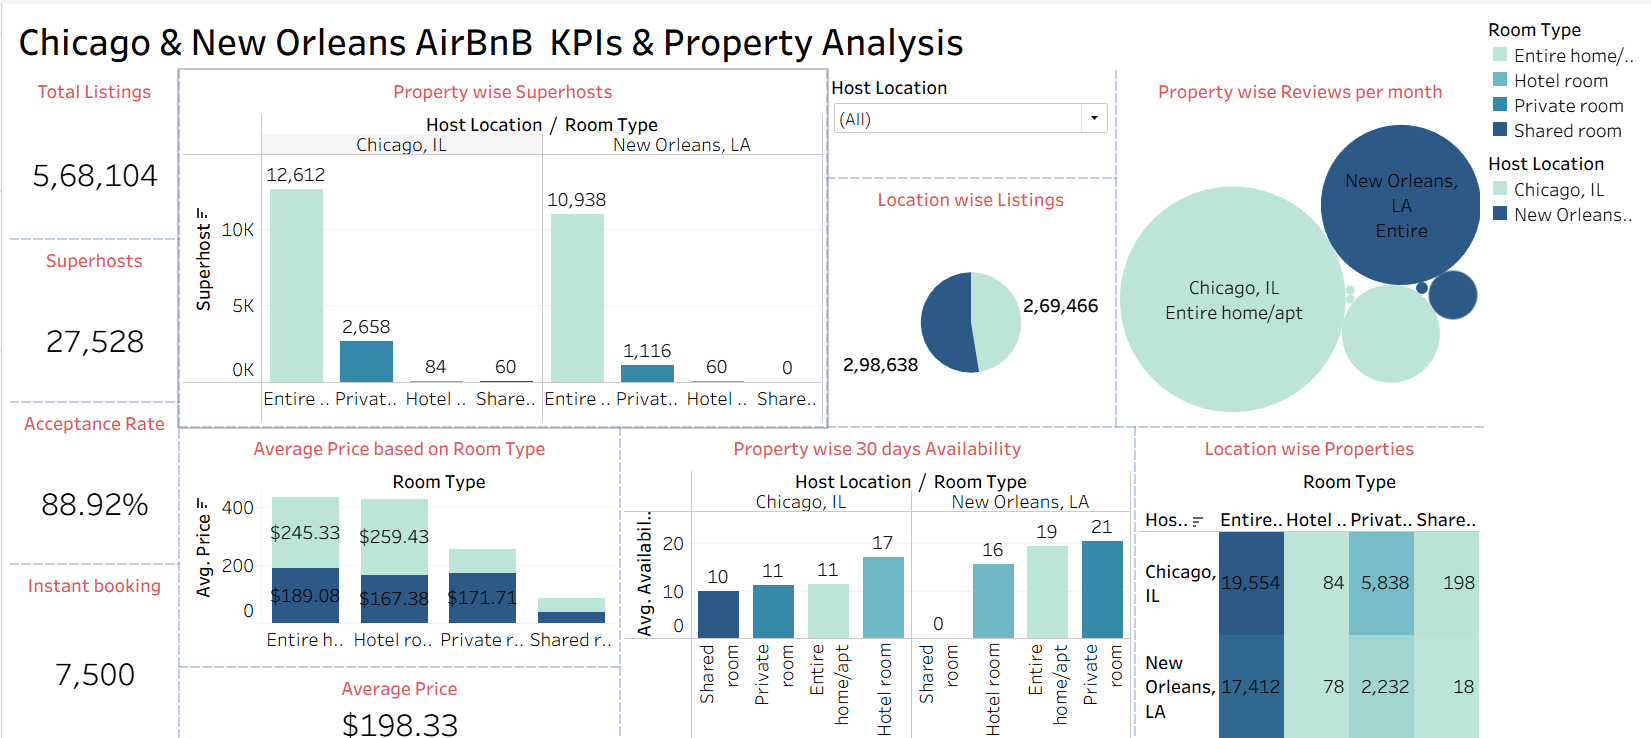

The page's visual inventory and layout, read from the dashboard file:
{"tool":"tableau","page":{"name":"DB - KPI and Property Analysis","canvas":[1000,1000],"units":"permille","ordinal":1},"visuals":[{"type":"title","box":[4.9,11,893.2,79.5]},{"type":"legend","title":"Property wise Superhosts","param":"[federated.1dk3tz613rppmf14h9z8i1sxdjd3].[none:room_type:nk]","box":[898.1,11,97.1,183.6]},{"type":"worksheet","title":"Total Listings","mark":"Automatic","box":[4.9,90.4,102.5,226]},{"type":"worksheet","title":"Property wise Superhosts","mark":"Automatic","rows":["Superhost"],"cols":["host_location","room_type"],"box":[107.4,90.4,392.6,476.7]},{"type":"filter","title":"Location wise Listings","param":"[federated.1dk3tz613rppmf14h9z8i1sxdjd3].[none:host_location:nk]","box":[500,90.4,174.8,143.8]},{"type":"worksheet","title":"Property wise Reviews per month","mark":"Circle","box":[674.8,90.4,223.3,476.7]},{"type":"legend","title":"Location wise Listings","param":"[federated.1dk3tz613rppmf14h9z8i1sxdjd3].[none:host_location:nk]","box":[898.1,194.5,97.1,160.3]},{"type":"worksheet","title":"Location wise Listings","mark":"Pie","box":[500,234.2,174.8,332.9]},{"type":"worksheet","title":"Superhosts","mark":"Automatic","box":[4.9,316.4,102.5,217.1]},{"type":"worksheet","title":"Acceptance Rate","mark":"Automatic","box":[4.9,533.6,102.5,217.1]},{"type":"worksheet","title":"Average Price based on Room Type","mark":"Bar","rows":["price"],"cols":["room_type"],"box":[107.4,567.1,267,320.6]},{"type":"worksheet","title":"Property wise 30 days Availability","mark":"Automatic","rows":["availability_30"],"cols":["host_location","room_type"],"box":[374.4,567.1,311.9,421.9]},{"type":"worksheet","title":"Location wise Properties","mark":"Square","rows":["host_location"],"cols":["room_type"],"box":[686.3,567.1,211.8,421.9]},{"type":"worksheet","title":"Instant booking","mark":"Automatic","box":[4.9,750.7,102.5,238.4]},{"type":"worksheet","title":"Average Price","mark":"Automatic","box":[107.4,887.7,267,101.4]}]}

Visuals, with their boxes on the dashboard's canvas, which has no fixed pixel size, in thousandths of its width and height (x1, y1, x2, y2). These are canvas units, not pixel positions in the 1651x738 screenshot, which may show the page scaled, cropped or inside an application window:
title: region(5, 11, 898, 90)
"Property wise Superhosts" legend: region(898, 11, 995, 195)
"Total Listings" worksheet: region(5, 90, 107, 316)
"Property wise Superhosts" worksheet: region(107, 90, 500, 567)
"Location wise Listings" filter: region(500, 90, 675, 234)
"Property wise Reviews per month" worksheet (Circle marks): region(675, 90, 898, 567)
"Location wise Listings" legend: region(898, 194, 995, 355)
"Location wise Listings" worksheet (Pie marks): region(500, 234, 675, 567)
"Superhosts" worksheet: region(5, 316, 107, 534)
"Acceptance Rate" worksheet: region(5, 534, 107, 751)
"Average Price based on Room Type" worksheet (Bar marks): region(107, 567, 374, 888)
"Property wise 30 days Availability" worksheet: region(374, 567, 686, 989)
"Location wise Properties" worksheet (Square marks): region(686, 567, 898, 989)
"Instant booking" worksheet: region(5, 751, 107, 989)
"Average Price" worksheet: region(107, 888, 374, 989)
